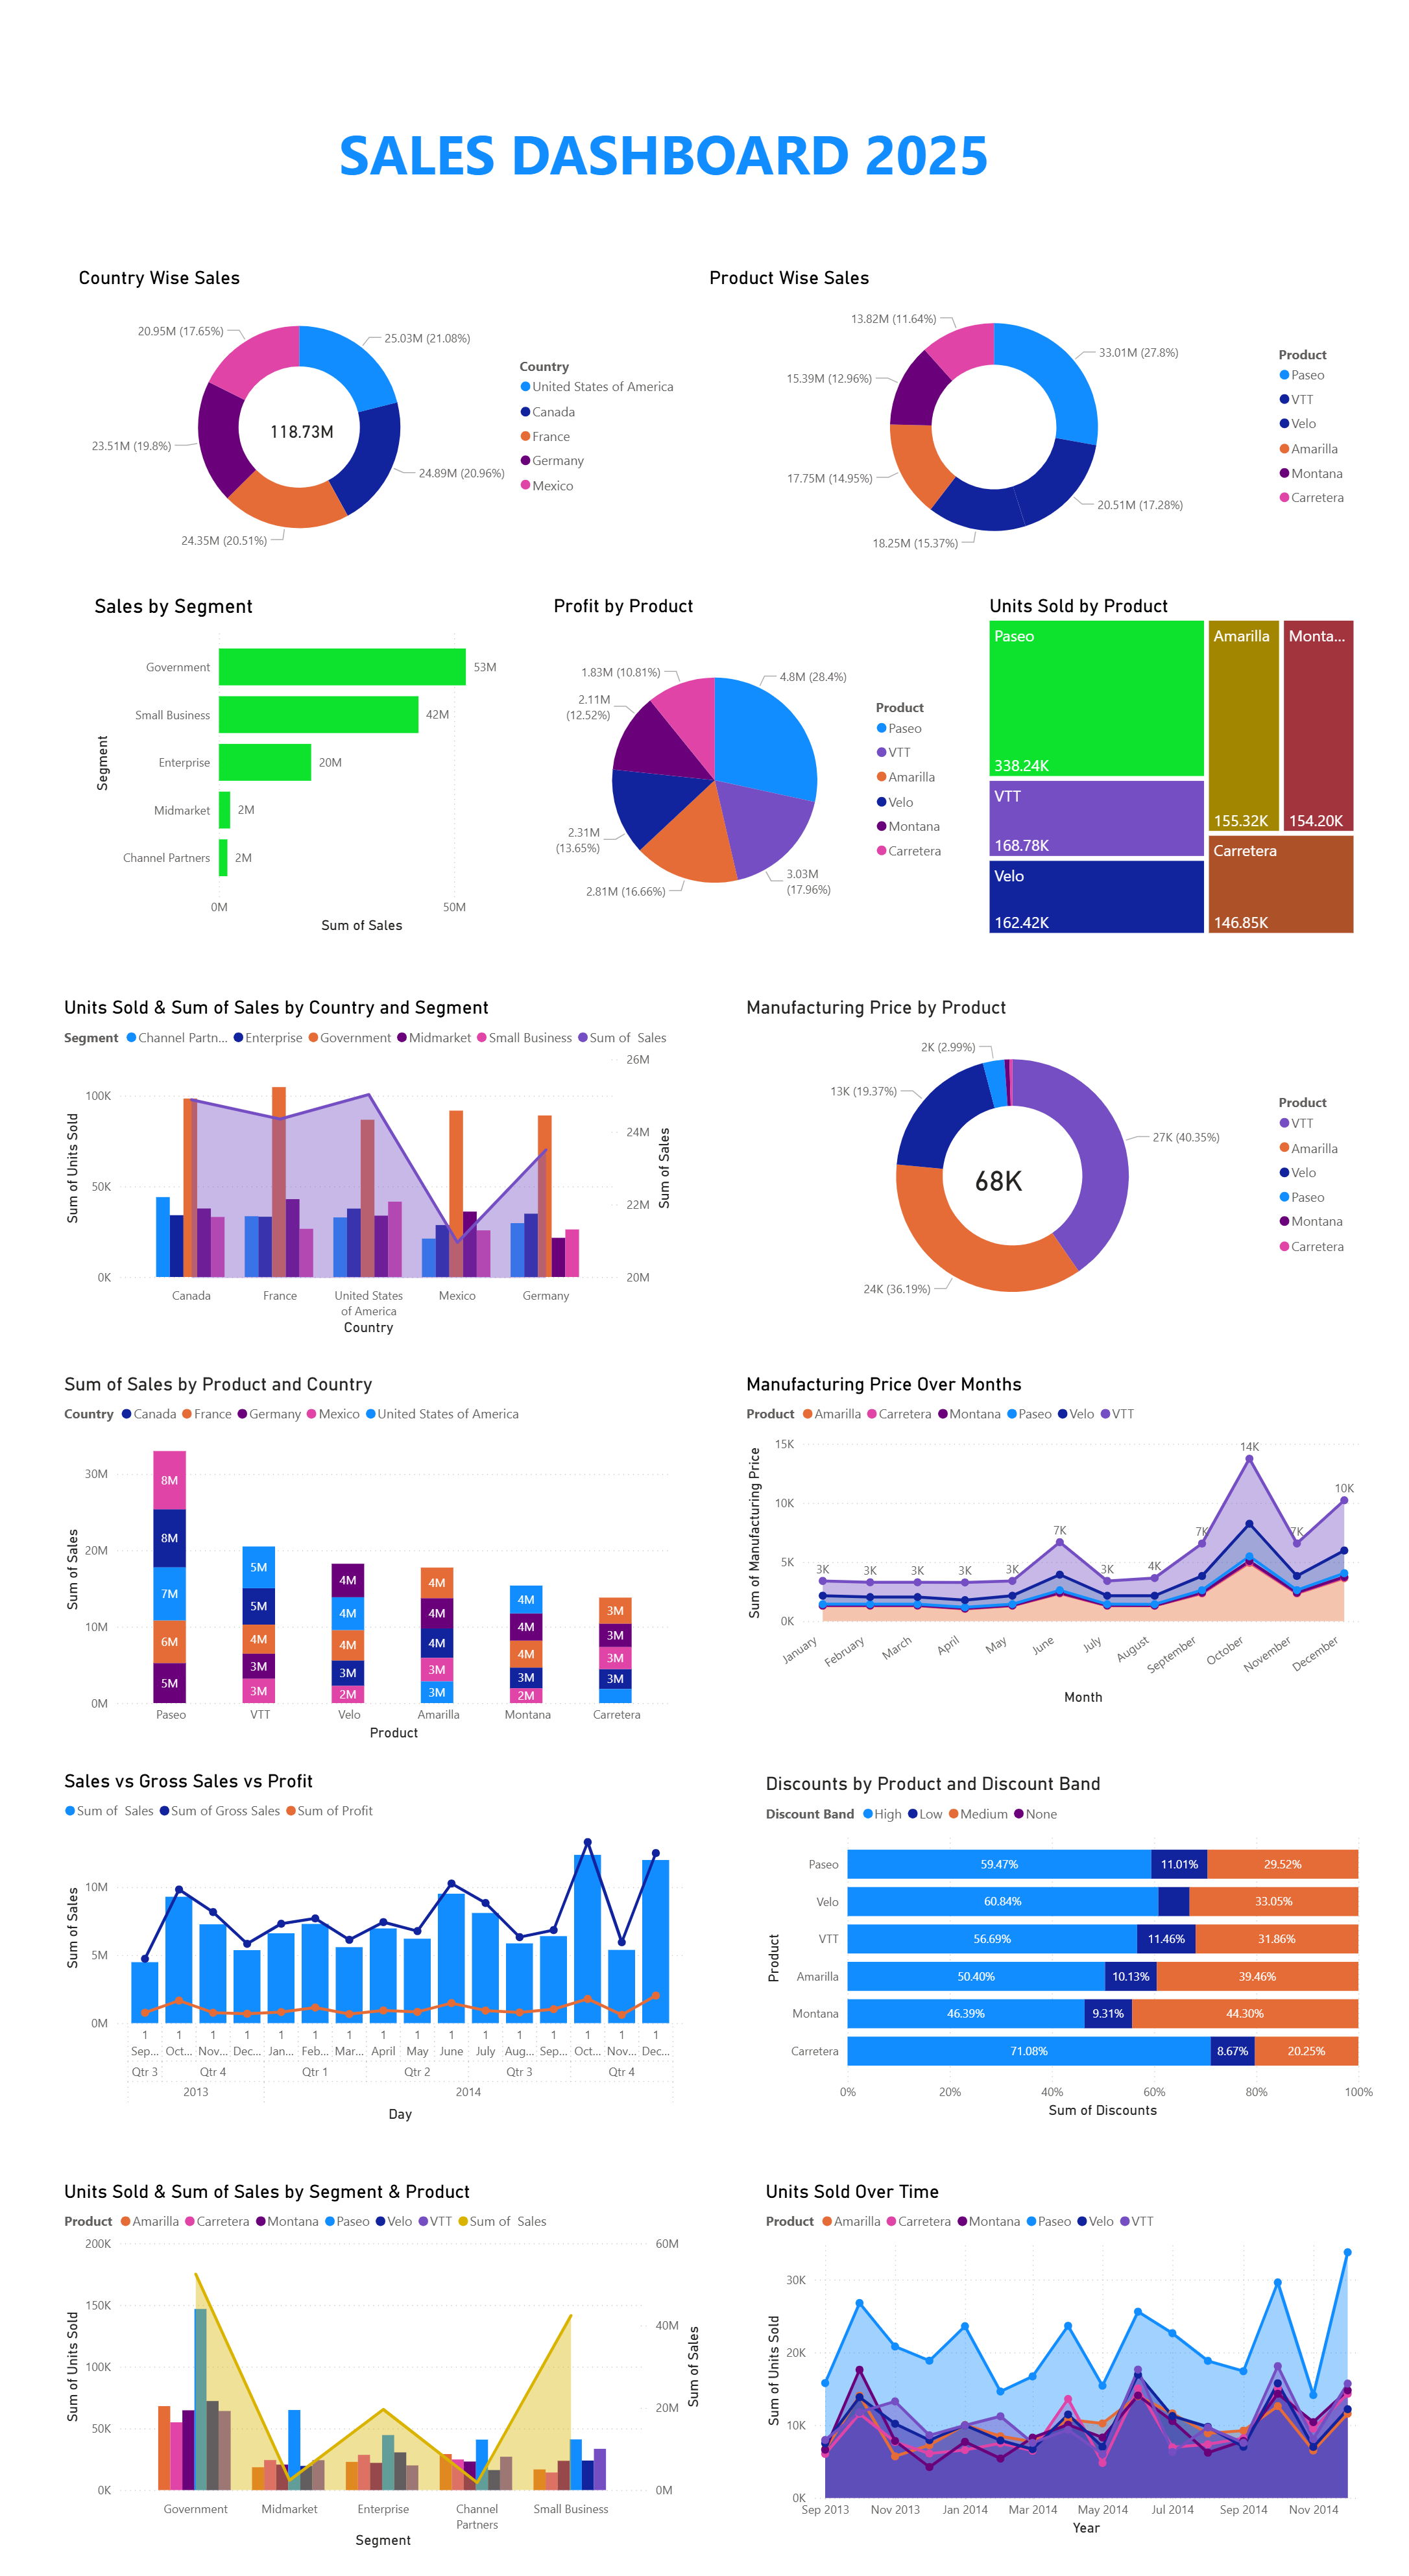

This screenshot's page, from the dashboard's own definition file:
{"tool":"powerbi","page":{"name":"Sales_DashBoard","canvas":[1400,2600],"ordinal":0},"visuals":[{"type":"donutChart","title":"Country Wise Sales","fields":{"Category":["financials.Country"],"Y":["Sum(financials. Sales)"]},"box":[51.7,250,631.7,308.3],"z":0},{"type":"donutChart","title":"Product Wise Sales","fields":{"Category":["financials.Product"],"Y":["Sum(financials. Sales)"]},"box":[700,250,671.7,308.3],"z":1000},{"type":"lineStackedColumnComboChart","title":"Sales vs Gross Sales vs Profit","fields":{"Category":["financials.Date.Variation.Date Hierarchy.Year","financials.Date.Variation.Date Hierarchy.Quarter","financials.Date.Variation.Date Hierarchy.Month","financials.Date.Variation.Date Hierarchy.Day"],"Y":["Sum(financials. Sales)"],"Y2":["Sum(financials.Gross Sales)","Sum(financials.Profit)"]},"box":[36.7,1795,646.7,366.7],"z":2000},{"type":"treemap","title":"Units Sold by Product","fields":{"Group":["financials.Product"],"Values":["Sum(financials.Units Sold)"]},"box":[988.3,586.7,383.3,353.3],"z":3000},{"type":"barChart","title":"Sales by Segment","fields":{"Category":["financials.Segment"],"Y":["Sum(financials. Sales)"]},"box":[68.3,586.7,443.3,353.3],"z":4000},{"type":"areaChart","title":"Units Sold Over Time","fields":{"Category":["financials.Date.Variation.Date Hierarchy.Year","financials.Date.Variation.Date Hierarchy.Quarter","financials.Date.Variation.Date Hierarchy.Month","financials.Date.Variation.Date Hierarchy.Day"],"Y":["Sum(financials.Units Sold)"],"Series":["financials.Product"]},"box":[758.3,2216.7,633.3,370],"z":5000},{"type":"donutChart","title":"Manufacturing Price by Product","fields":{"Category":["financials.Product"],"Y":["Sum(financials.Manufacturing Price)"]},"box":[738.3,1000,633.3,346.7],"z":6000},{"type":"stackedAreaChart","title":"Manufacturing Price Over Months","fields":{"Category":["financials.Date.Variation.Date Hierarchy.Month"],"Y":["Sum(financials.Manufacturing Price)"],"Series":["financials.Product"]},"box":[738.3,1386.7,643.3,346.7],"z":7000},{"type":"lineClusteredColumnComboChart","title":"Units Sold & Sum of  Sales by Country and Segment","fields":{"Category":["financials.Country"],"Series":["financials.Segment"],"Y2":["Sum(financials. Sales)"],"Y":["Sum(financials.Units Sold)"]},"box":[36.7,1000,633.3,353.3],"z":8000},{"type":"hundredPercentStackedBarChart","title":"Discounts by Product and Discount Band","fields":{"Category":["financials.Product"],"Y":["Sum(financials.Discounts)"],"Series":["financials.Discount Band"]},"box":[758.3,1798.3,633.3,360],"z":9000},{"type":"card","fields":{"Values":["Sum(financials. Sales)"]},"box":[240,388.3,91.7,63.3],"z":10000},{"type":"textbox","box":[52,90,1214,96],"z":11000},{"type":"card","fields":{"Values":["Sum(financials.Manufacturing Price)"]},"box":[959.7,1154.7,84,66],"z":12000},{"type":"pieChart","title":"Profit by Product","fields":{"Category":["financials.Product"],"Y":["Sum(financials.Profit)"]},"box":[540,586.7,418.3,360],"z":13000},{"type":"lineClusteredColumnComboChart","title":"Units Sold & Sum of Sales by Segment & Product","fields":{"Category":["financials.Segment"],"Series":["financials.Product"],"Y2":["Sum(financials. Sales)"],"Y":["Sum(financials.Units Sold)"]},"box":[36.7,2216.7,663.3,383.3],"z":14000},{"type":"ribbonChart","fields":{"Category":["financials.Product"],"Y":["Sum(financials. Sales)"],"Series":["financials.Country"]},"box":[36.7,1386.7,633.3,383.3],"z":15000}]}

Visuals, with their boxes in screenshot pixels (x1, y1, x2, y2), scaled from the page's 1400x2600 canvas onto the 1409x2576 screenshot:
"Country Wise Sales" donutChart: (x1=52, y1=248, x2=688, y2=553)
"Product Wise Sales" donutChart: (x1=704, y1=248, x2=1380, y2=553)
"Sales vs Gross Sales vs Profit" lineStackedColumnComboChart: (x1=37, y1=1778, x2=688, y2=2141)
"Units Sold by Product" treemap: (x1=994, y1=581, x2=1380, y2=931)
"Sales by Segment" barChart: (x1=69, y1=581, x2=515, y2=931)
"Units Sold Over Time" areaChart: (x1=763, y1=2196, x2=1401, y2=2563)
"Manufacturing Price by Product" donutChart: (x1=743, y1=991, x2=1380, y2=1334)
"Manufacturing Price Over Months" stackedAreaChart: (x1=743, y1=1374, x2=1390, y2=1717)
"Units Sold & Sum of  Sales by Country and Segment" lineClusteredColumnComboChart: (x1=37, y1=991, x2=674, y2=1341)
"Discounts by Product and Discount Band" hundredPercentStackedBarChart: (x1=763, y1=1782, x2=1401, y2=2138)
card - Sum(financials. Sales): (x1=241, y1=385, x2=334, y2=447)
textbox: (x1=53, y1=89, x2=1274, y2=184)
card - Sum(financials.Manufacturing Price): (x1=966, y1=1144, x2=1050, y2=1210)
"Profit by Product" pieChart: (x1=544, y1=581, x2=965, y2=938)
"Units Sold & Sum of Sales by Segment & Product" lineClusteredColumnComboChart: (x1=37, y1=2196, x2=704, y2=2575)
ribbonChart - financials.Product x Sum(financials. Sales): (x1=37, y1=1374, x2=674, y2=1754)
